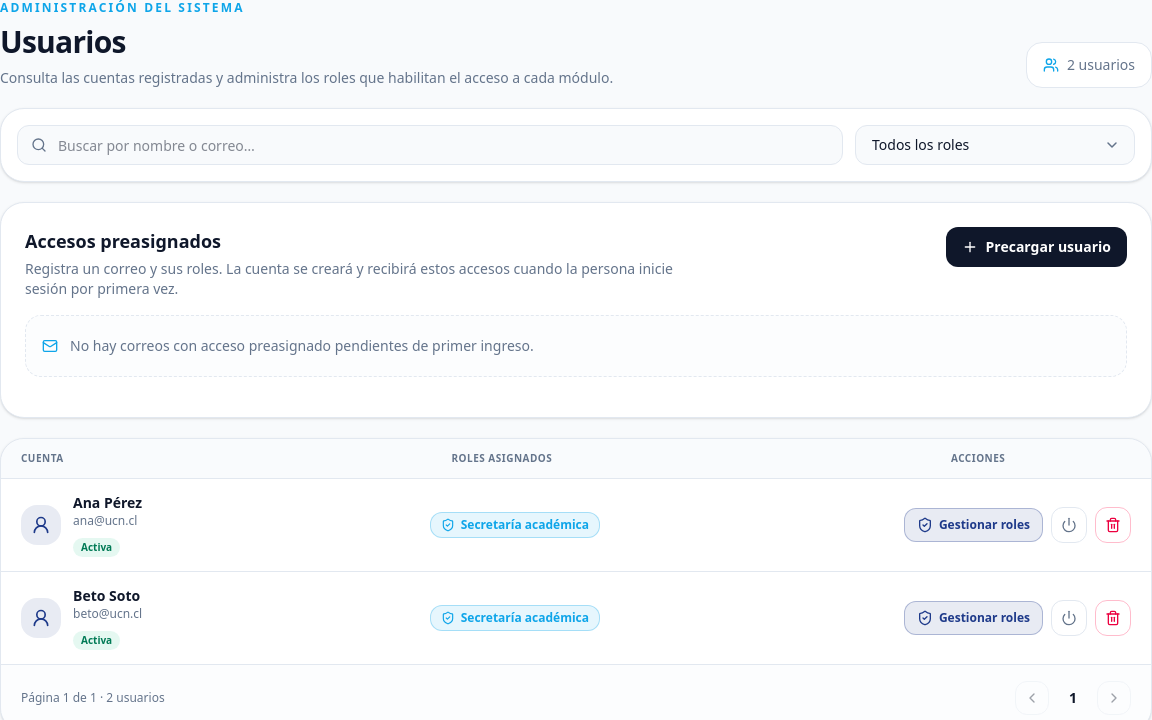
UsersPage (administración de usuarios) › eliminar una cuenta la quita de la lista tras confirmar
Step 1. Click the button named "Eliminar permanentemente a Ana Pérez" → (1113, 525), box [1095,507,1131,543]
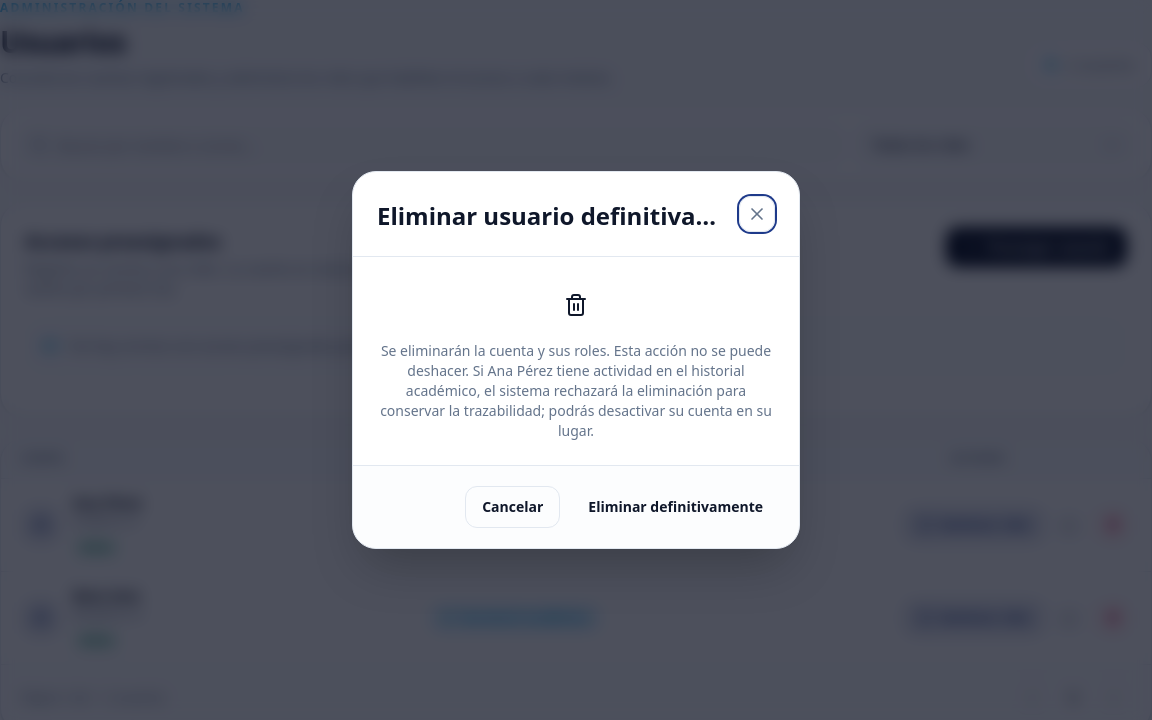
Step 2. Click the button "Eliminar definitivamente" → (676, 507), box [572,487,779,527]
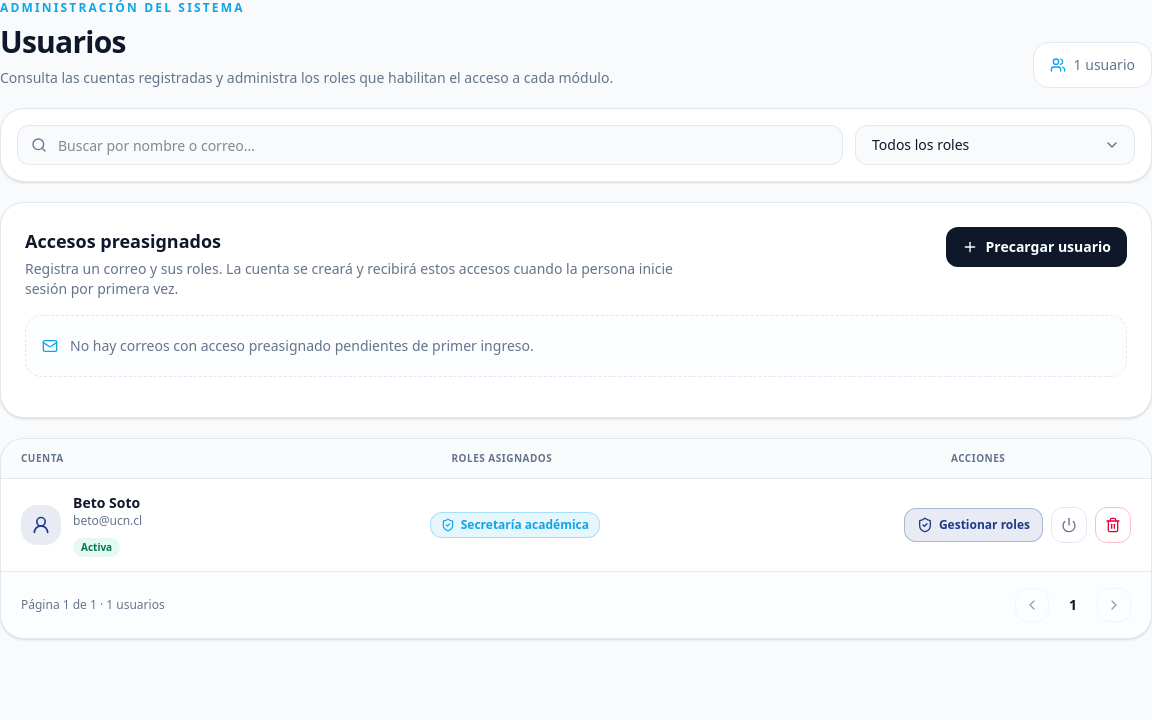
Expected: the text "Beto Soto" is shown, [73,493,142,513]
Expected: the text "Ana Pérez" is gone
Expected: the heading "Eliminar usuario definitivamente" is gone
